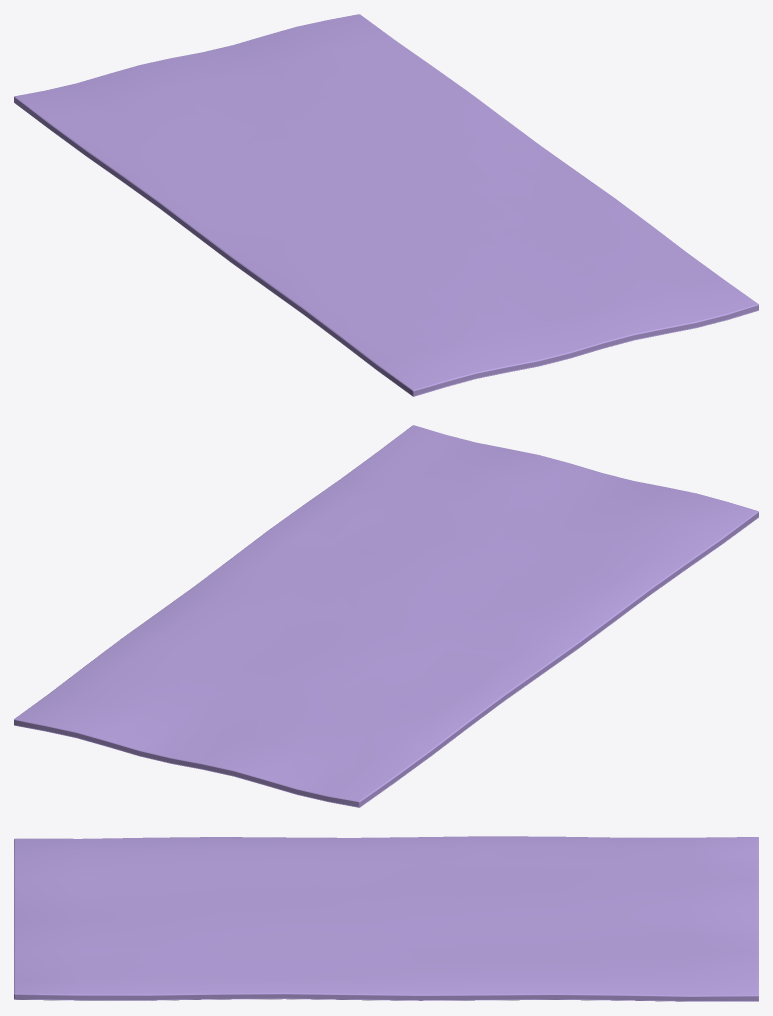
File: bed_cover.glb
The picture shows the model from 3 angles, top to bottom: view 1: azimuth 30°, elevation 25°; view 2: azimuth 150°, elevation 25°; view 3: azimuth 270°, elevation 25°; orthographic projection. The views are drawn at different scales.
Parts seen in each view (by area): view 1: bed_cover; view 2: bed_cover; view 3: bed_cover.
Part boxes in pixels (bbox=[...]): bed_cover: bbox=[14, 14, 758, 396]; bed_cover: bbox=[14, 425, 758, 807]; bed_cover: bbox=[14, 836, 758, 1001].
Size of the model in its own units: 1 by 0.04 by 2.
